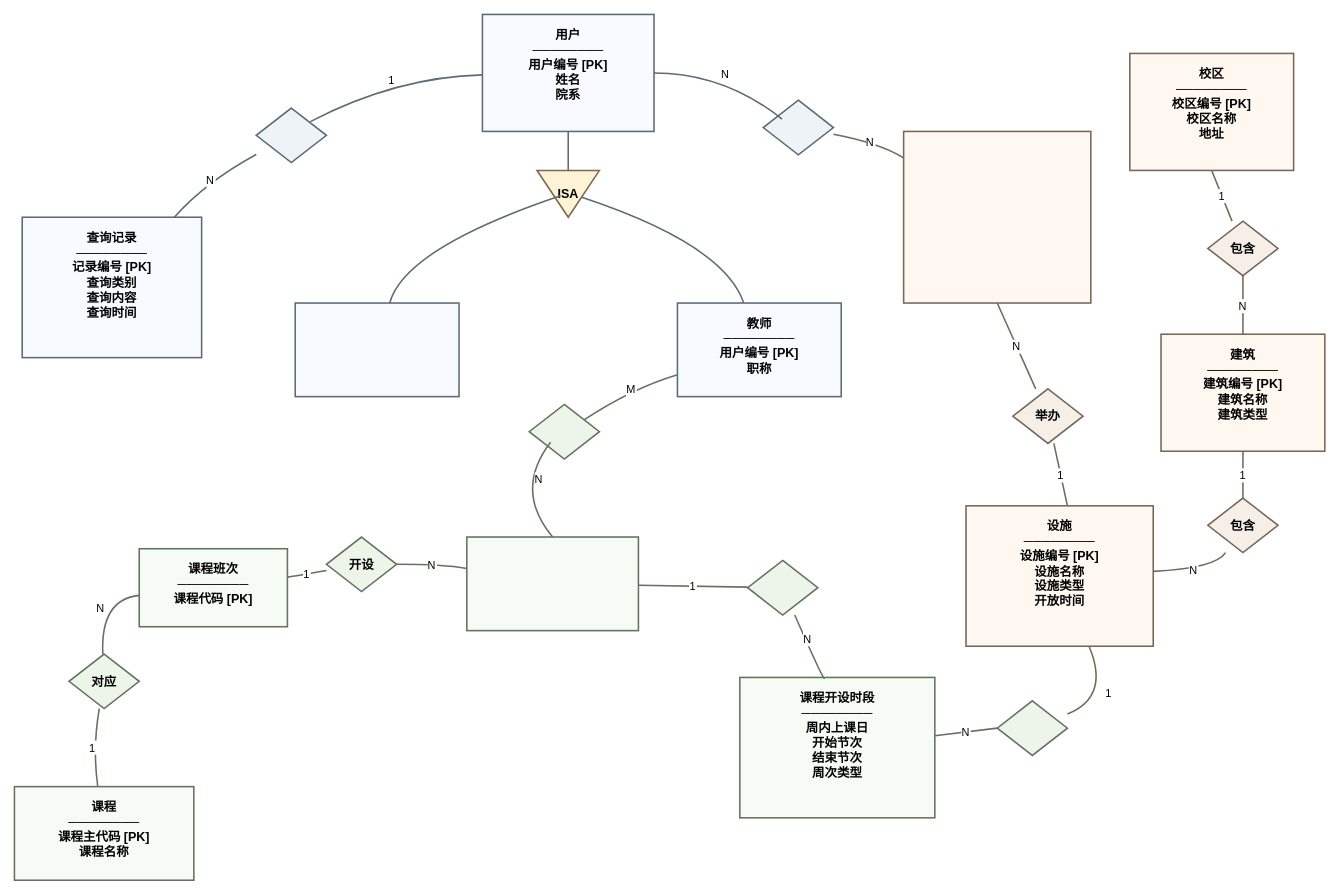
The diagram is 1338 pixels wide and 894 high, and some of its shapes have lost their labels. Here are the shapes that lost their labels. From the top down, the box of each, then its label:
(255, 107, 327, 163): 产生
(762, 99, 834, 155): 参加
(902, 130, 1091, 303): 活动 ──────── 活动编号 [PK] 活动名称 活动简介 开始时间 结束时间 主办单位
(294, 302, 459, 397): 学生 ──────── 用户编号 [PK] 专业
(528, 403, 600, 459): 授课
(466, 536, 639, 631): 课程开设 ──────── 开设编号 [PK] 开课学期
(746, 559, 818, 615): 安排
(996, 700, 1068, 756): 使用
